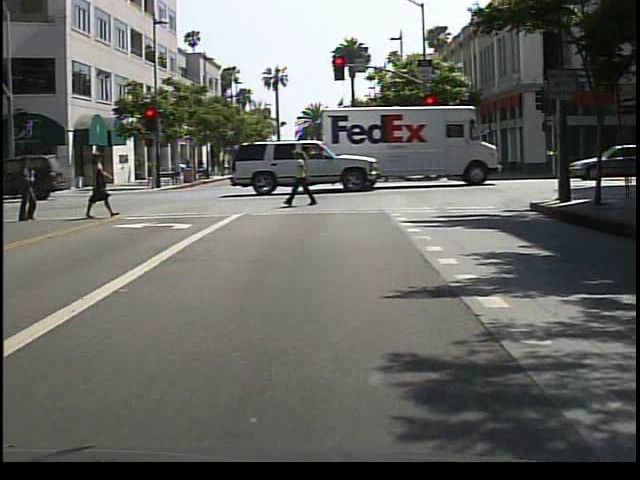person: (85, 149, 121, 221), (14, 153, 50, 224), (290, 147, 323, 209)
